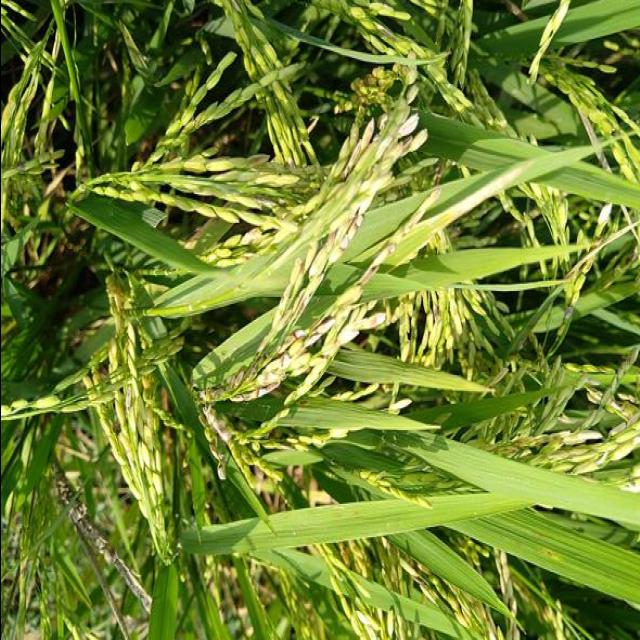Panicle Blight: (196, 300, 380, 404), (356, 188, 440, 287), (338, 101, 426, 177), (551, 246, 601, 350), (308, 214, 363, 279), (214, 227, 285, 262), (196, 410, 228, 481), (492, 433, 545, 460), (283, 259, 310, 298), (397, 67, 421, 104), (245, 194, 276, 216), (425, 291, 440, 332), (406, 39, 428, 58), (244, 152, 270, 167)
